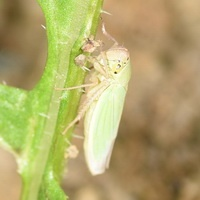insect: (62, 23, 130, 174)
